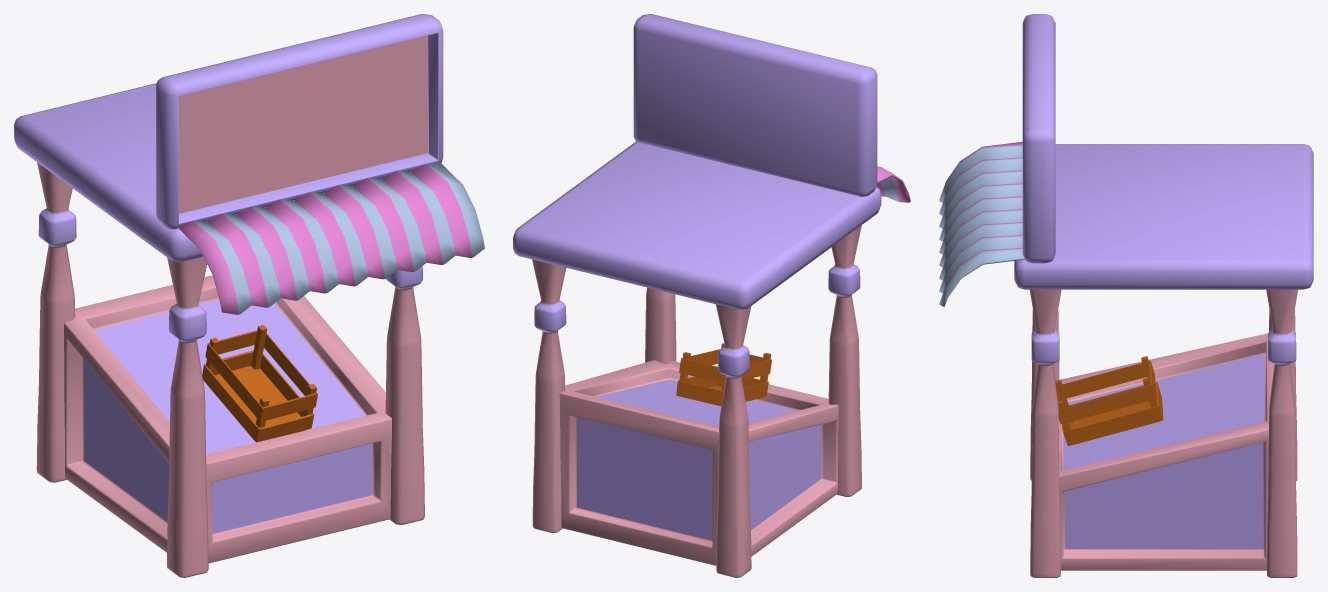
The model's file is farmers market stand 2.fbx.
3 views of the same model, side by side, from view 1: azimuth 30°, elevation 25°; view 2: azimuth 150°, elevation 25°; view 3: azimuth 270°, elevation 25° (orthographic). The views are drawn at different scales.
Parts seen in each view (by area): view 1: Cube, Cube.002; view 2: Cube, Cube.002; view 3: Cube, Cube.002.
Boxes of the visible parts, x1,y1,x2,y2 form: Cube: (14, 14, 484, 577); Cube.002: (202, 325, 317, 442); Cube: (513, 14, 910, 577); Cube.002: (676, 343, 771, 405); Cube: (939, 14, 1313, 577); Cube.002: (1055, 356, 1163, 445).
Size of the model in its own units: 242 by 414 by 311.
